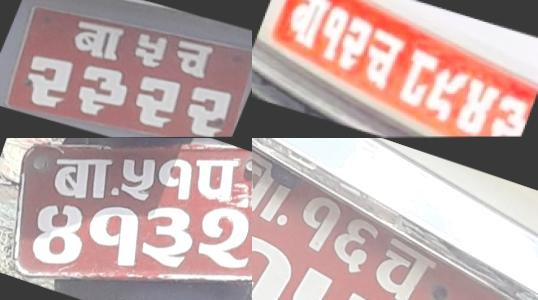0: (47, 143, 117, 208)
1: (284, 183, 348, 266), (189, 200, 252, 275), (252, 220, 302, 300), (310, 4, 354, 60)
2: (10, 48, 83, 116), (122, 71, 189, 136), (174, 82, 240, 137), (334, 16, 375, 74)
3: (79, 197, 153, 272), (65, 62, 136, 128), (151, 153, 200, 204), (480, 91, 533, 137)
4: (447, 74, 502, 137)
5: (23, 194, 96, 275), (265, 257, 384, 300), (125, 29, 174, 73)
6: (324, 203, 388, 284), (112, 149, 162, 205)
8: (186, 147, 245, 205), (389, 45, 442, 109)
9: (417, 62, 472, 124)
ba: (134, 200, 202, 271), (252, 140, 305, 230), (66, 17, 129, 66), (280, 0, 333, 50)
cha: (365, 227, 445, 300), (352, 26, 407, 95), (161, 36, 220, 86)
